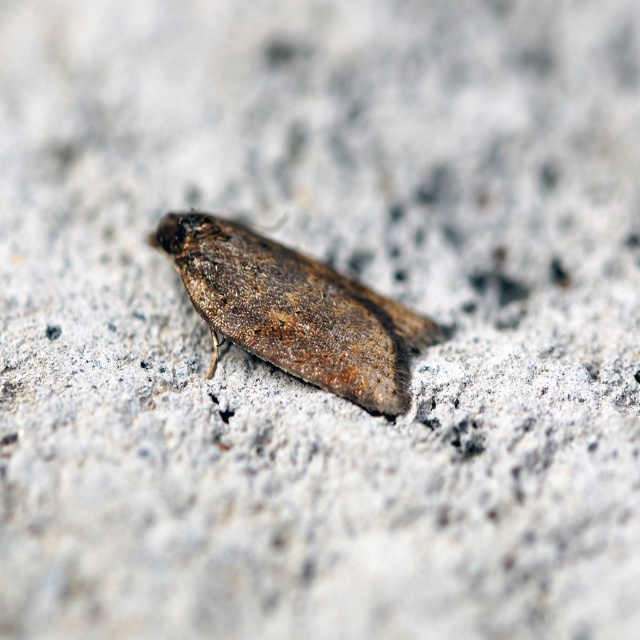Moths and butterflies: (140, 206, 465, 425)
